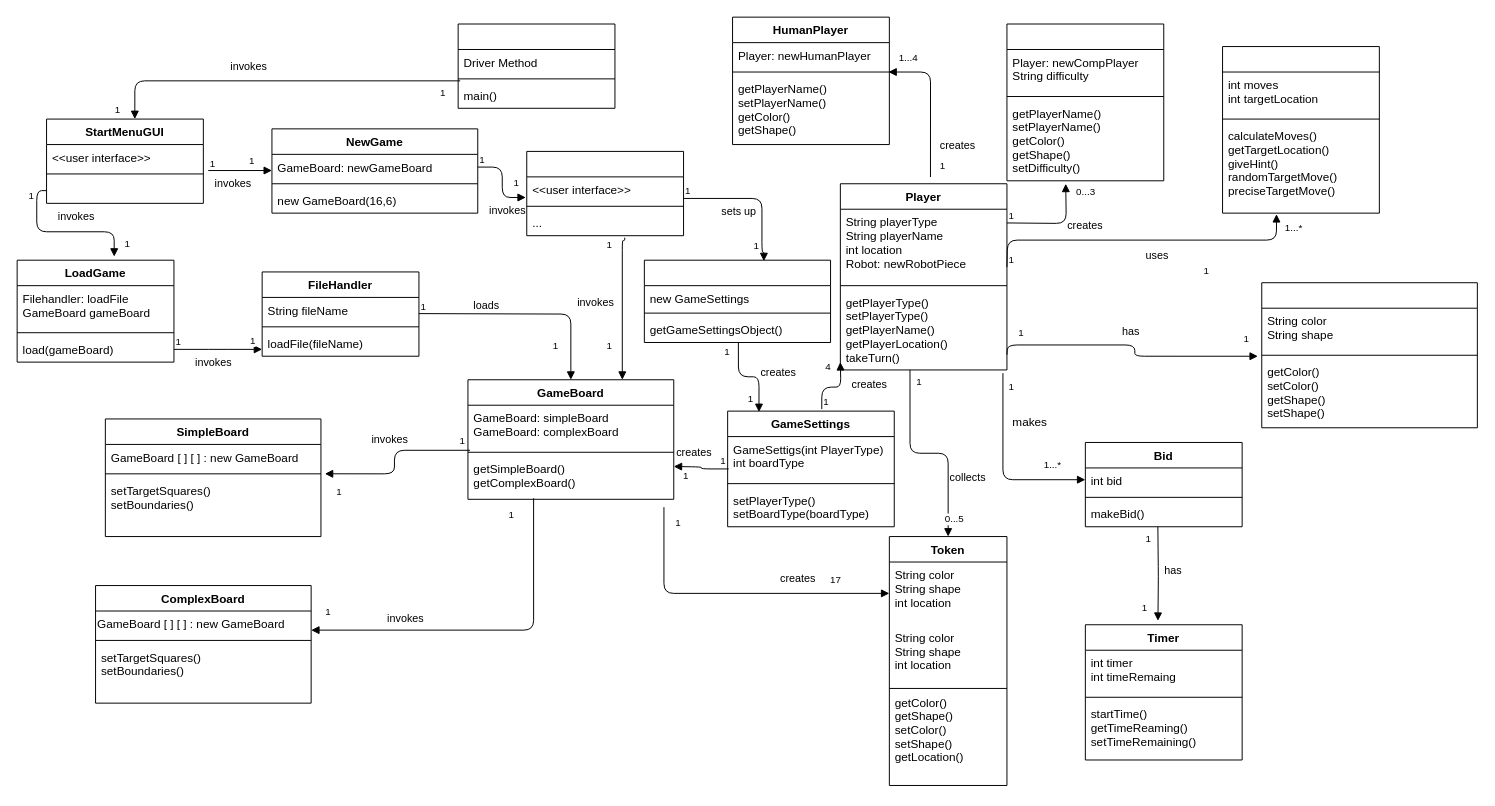
Some shapes in this 1495 by 806 pixel diagram are drawn without their labels. Here are the shapes that lost their labels. From the top down, the box of each, then its label:
(457, 23, 615, 108): Game
(1006, 23, 1164, 181): ComputerPlayer
(1222, 46, 1379, 213): Strategy
(526, 150, 684, 236): SetupPlayersGUI
(643, 259, 831, 343): ChooseBoardGUI
(1261, 282, 1477, 428): Robot
